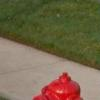Hydrant: (34, 65, 87, 100)
